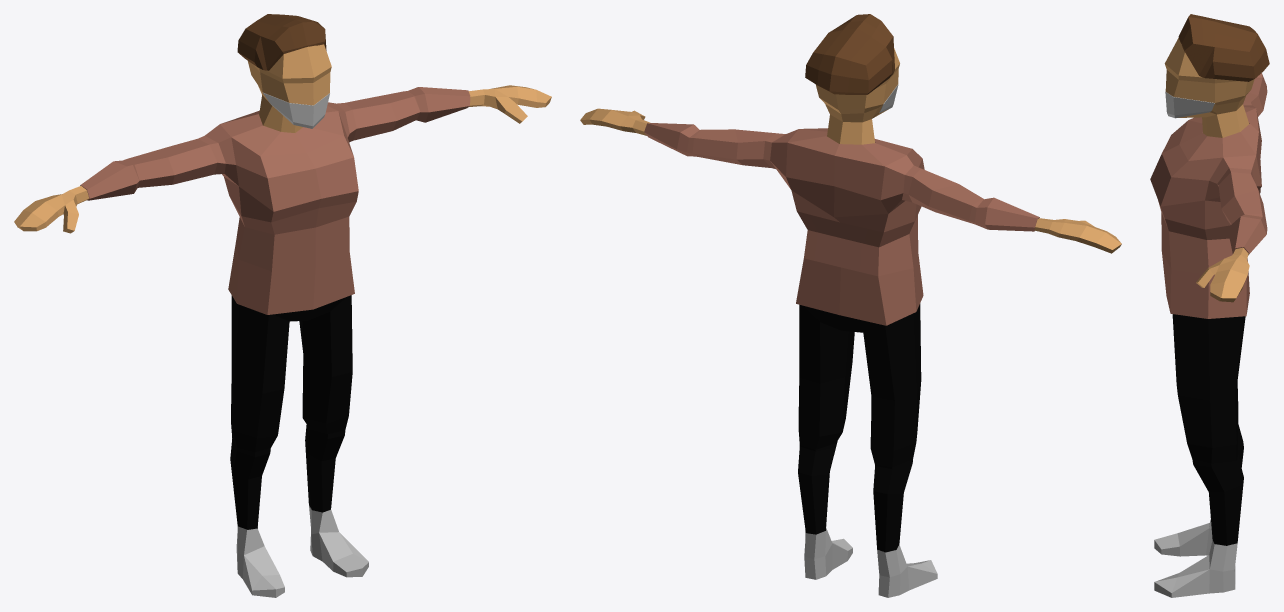
3 renders of one model, left to right at view 1: azimuth 30°, elevation 25°; view 2: azimuth 150°, elevation 25°; view 3: azimuth 270°, elevation 25°, orthographic.
Parts seen in each view (by area): view 1: Shirt_LongSleeve_Doctor, Pants_1, BaseBody, Shoe, HairStyle_4, Mustache; view 2: Shirt_LongSleeve_Doctor, Pants_1, BaseBody, HairStyle_4, Shoe; view 3: Shirt_LongSleeve_Doctor, Pants_1, BaseBody, HairStyle_4, Shoe, Mustache.
Part boxes in pixels (box(x1,y1,x2,y2)): Shirt_LongSleeve_Doctor: box(80, 87, 470, 314); Pants_1: box(230, 295, 352, 529); BaseBody: box(14, 44, 551, 233); Shoe: box(236, 505, 368, 597); HairStyle_4: box(237, 14, 326, 70); Mustache: box(262, 92, 329, 128); Shirt_LongSleeve_Doctor: box(644, 123, 1039, 325); Pants_1: box(798, 303, 921, 552); BaseBody: box(580, 48, 1121, 253); HairStyle_4: box(805, 14, 894, 94); Shoe: box(804, 527, 937, 597); Shirt_LongSleeve_Doctor: box(1150, 73, 1267, 318); Pants_1: box(1172, 314, 1245, 545); BaseBody: box(1164, 38, 1254, 302); HairStyle_4: box(1178, 14, 1269, 81); Shoe: box(1154, 519, 1237, 597); Mustache: box(1165, 91, 1214, 118).
Bounding box in the file's own units: 185 × 183 × 35.9.
